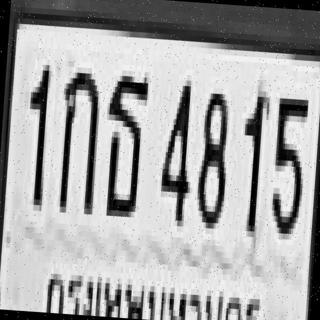A01: (54, 60, 100, 208)
A24: (100, 66, 149, 215)
N01: (236, 84, 266, 231), (21, 58, 50, 205)
N04: (157, 73, 193, 221)
N05: (269, 90, 307, 232)
N08: (194, 81, 230, 223)
